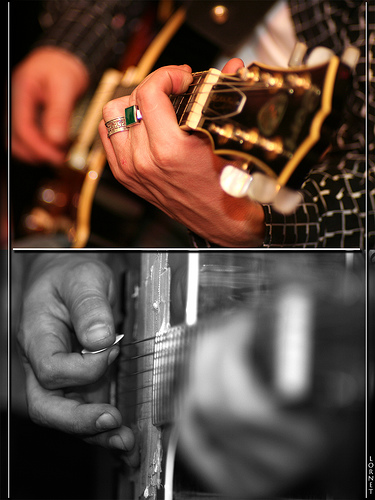guitar: (169, 57, 356, 212)
